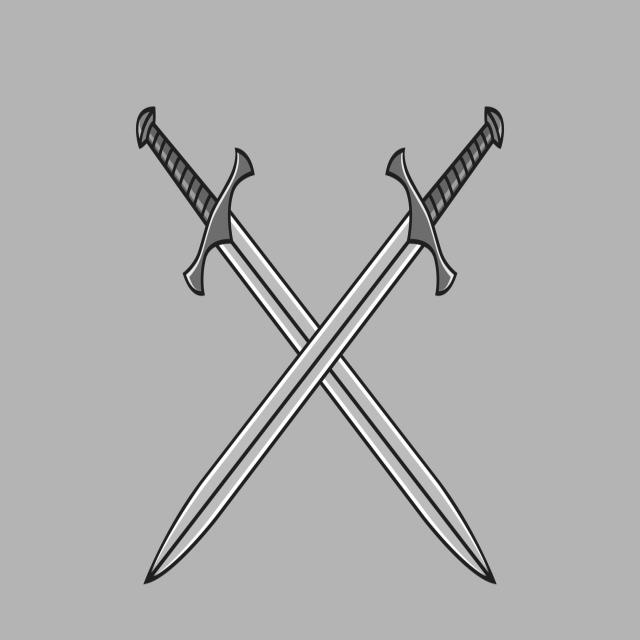Knife: (111, 50, 512, 620), (136, 91, 512, 602)
